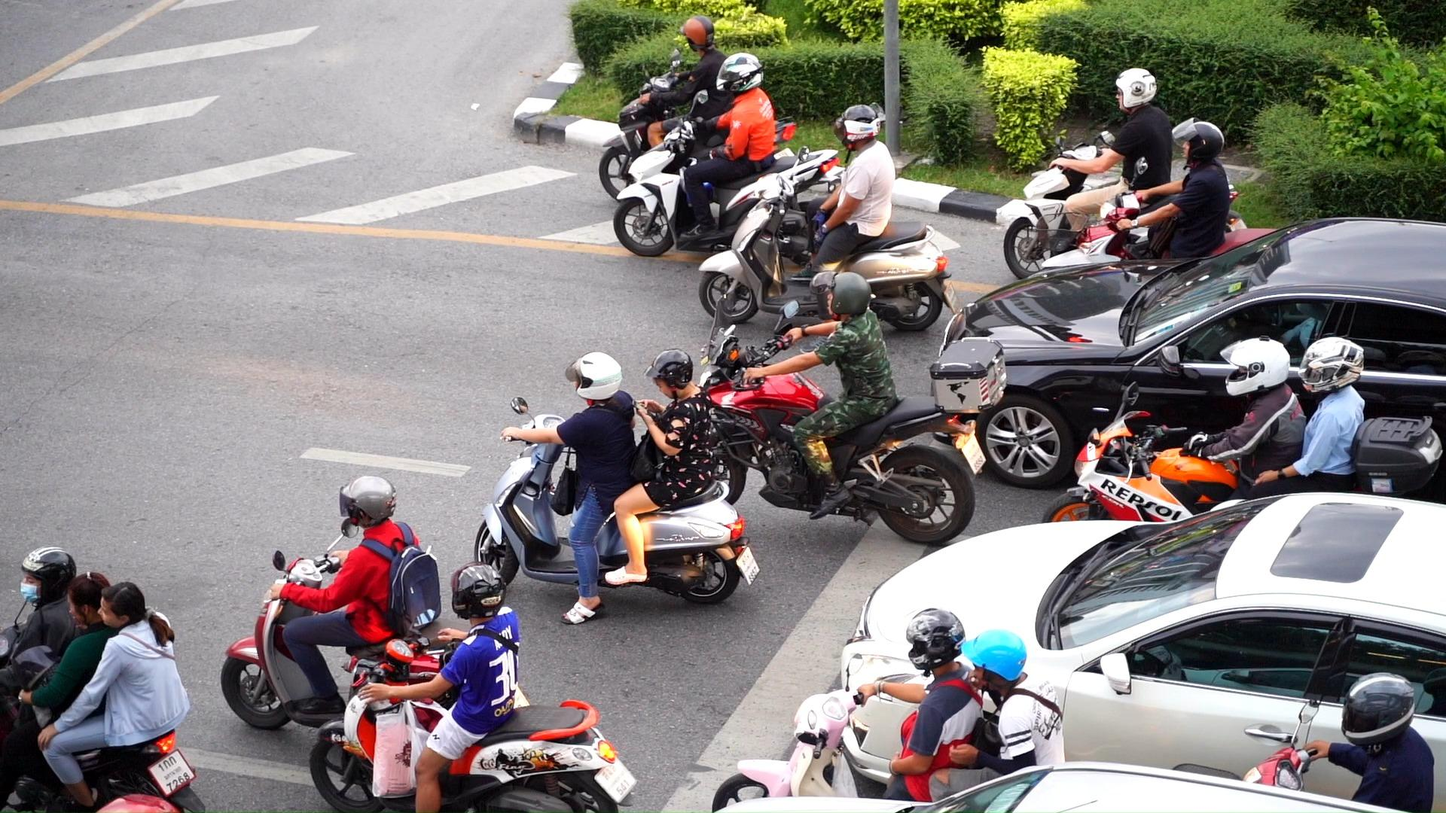driver: (311, 562, 639, 813), (474, 348, 759, 625), (698, 270, 986, 544), (1042, 334, 1443, 523), (710, 608, 1066, 813), (221, 476, 471, 730), (698, 104, 959, 332), (0, 546, 206, 813), (1003, 68, 1248, 279), (614, 52, 840, 257), (599, 15, 797, 203), (1037, 116, 1278, 268), (1242, 672, 1434, 813)
helmet: (1342, 672, 1414, 757), (962, 628, 1027, 712), (903, 608, 966, 681), (1220, 335, 1290, 397), (1298, 337, 1364, 395), (20, 545, 77, 608), (644, 347, 694, 411), (566, 351, 623, 407), (450, 563, 506, 620), (339, 475, 397, 529), (810, 271, 872, 321), (1172, 117, 1225, 170), (834, 104, 880, 164), (1115, 68, 1157, 116), (716, 52, 763, 93), (680, 15, 714, 51)
no-helmet: (67, 571, 110, 626), (97, 581, 145, 629)
